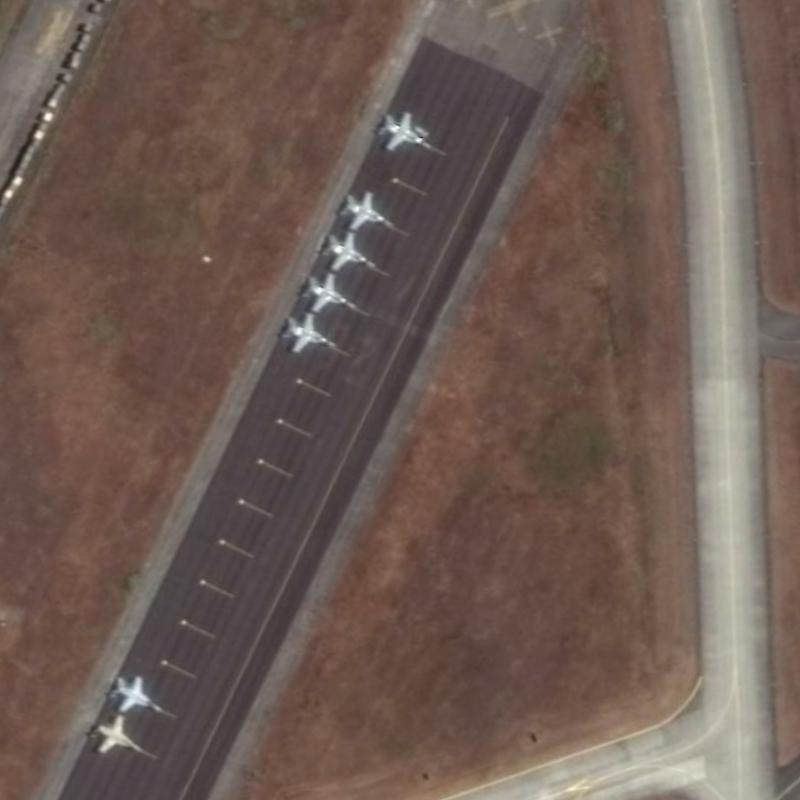A16: (81, 710, 153, 760), (372, 104, 438, 158), (103, 665, 170, 716), (275, 310, 345, 358), (317, 227, 382, 276), (334, 182, 394, 232), (294, 269, 354, 314)
